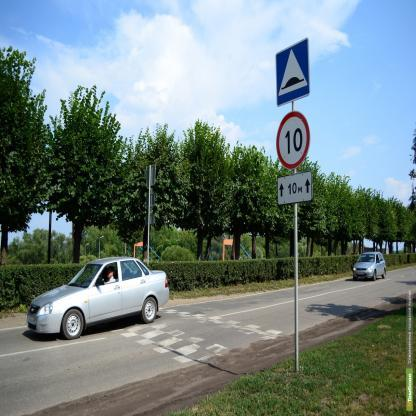road_sign: (277, 39, 310, 106), (276, 111, 310, 169), (278, 172, 312, 205)
